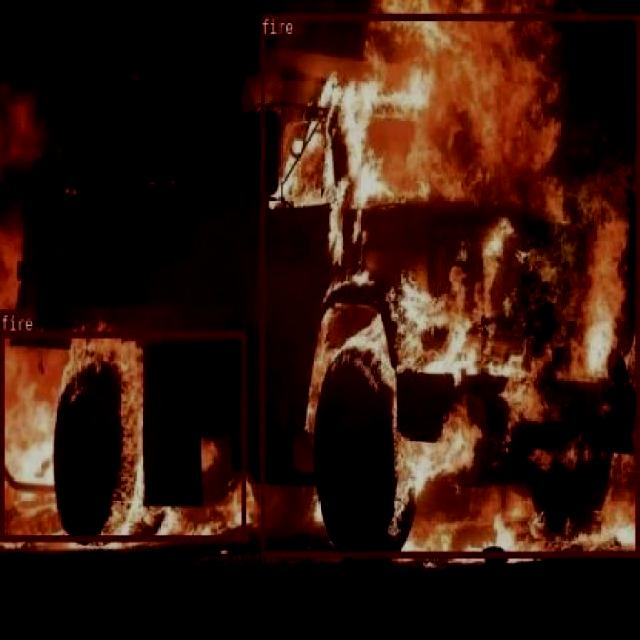fire: (260, 13, 638, 556), (0, 330, 245, 539)
